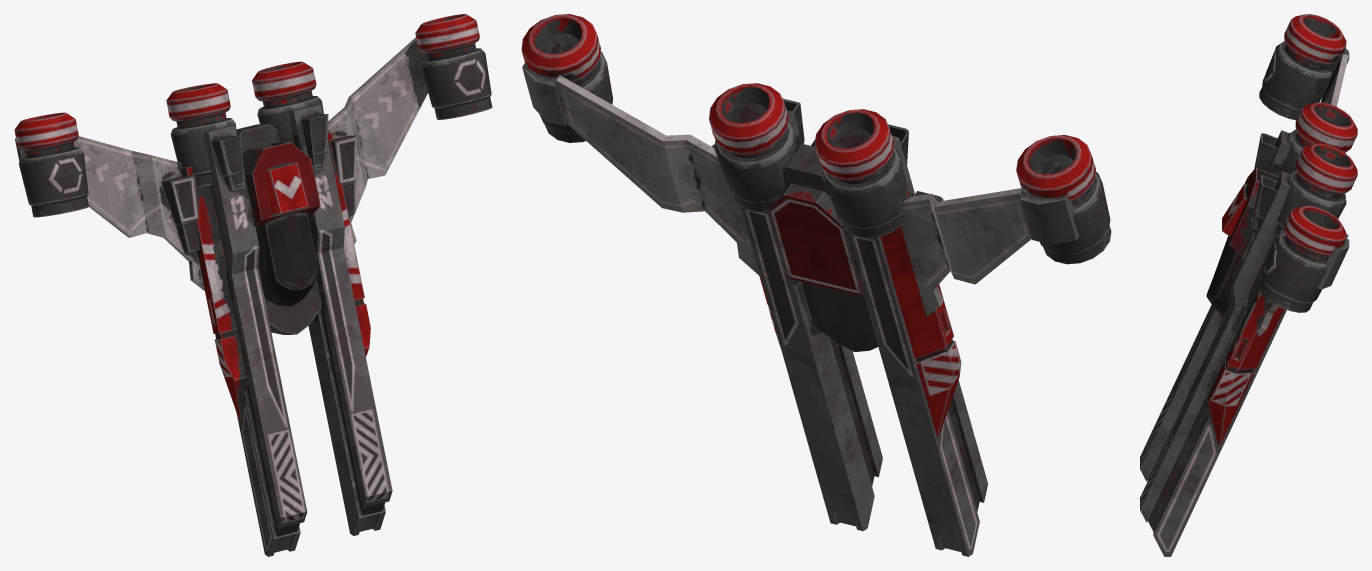
Rendered from Executioner.fbx.
3 renders of one model, left to right at view 1: azimuth 30°, elevation 25°; view 2: azimuth 150°, elevation 25°; view 3: azimuth 270°, elevation 25°, orthographic. The views are drawn at different scales.
Parts seen in each view (by area): view 1: Executioner; view 2: Executioner; view 3: Executioner.
Part boxes in pixels (bbox=[...]): Executioner: bbox=[14, 14, 492, 556]; Executioner: bbox=[521, 14, 1111, 556]; Executioner: bbox=[1140, 14, 1357, 556].
Bounding box in the file's own units: 6198 × 2604 × 5485.
